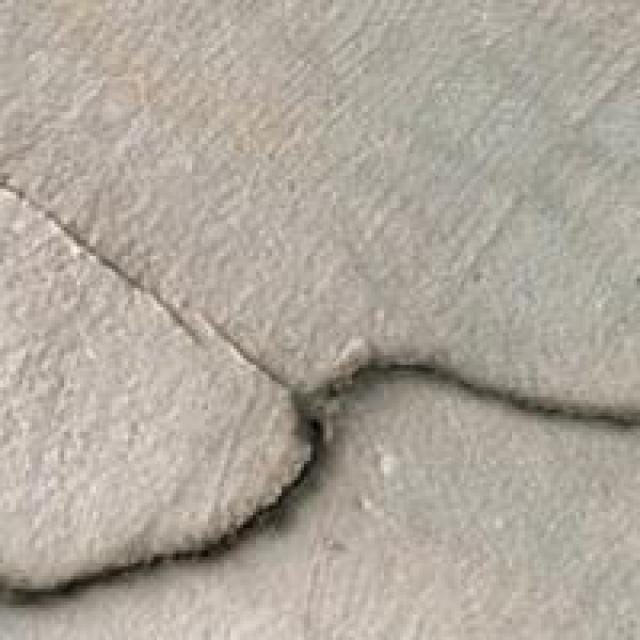crack: (3, 214, 640, 636)
